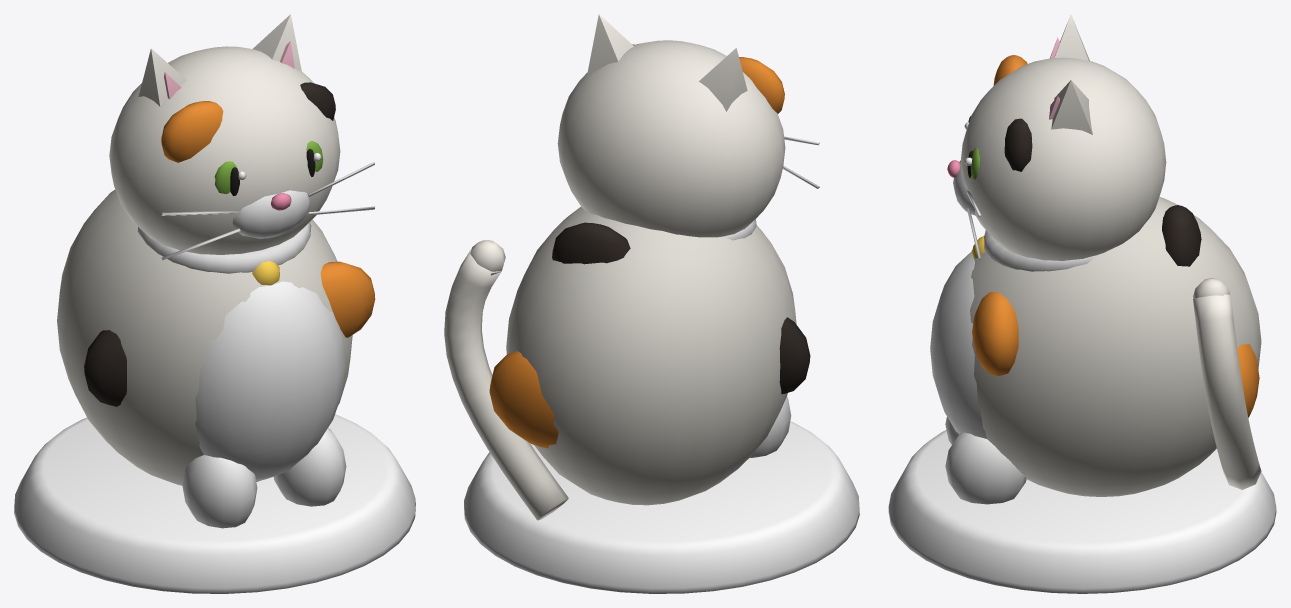
The model's file is calico-DDFlZJ4P.glb.
3 renders of one model, left to right at view 1: azimuth 30°, elevation 25°; view 2: azimuth 150°, elevation 25°; view 3: azimuth 270°, elevation 25°, orthographic. The views are drawn at different scales.
Parts seen in each view (by area): view 1: Body, Tint; view 2: Body, Tint; view 3: Body, Tint.
Part boxes in pixels (x1=…): Body: x1=57, y1=14, x2=375, y2=528; Tint: x1=14, y1=222, x2=415, y2=593; Body: x1=444, y1=14, x2=819, y2=520; Tint: x1=464, y1=219, x2=859, y2=593; Body: x1=930, y1=14, x2=1261, y2=504; Tint: x1=888, y1=230, x2=1276, y2=593.
Bounding box in the file's own units: 1.02 × 1.35 × 1.02.
2 materials, 2 textured.
